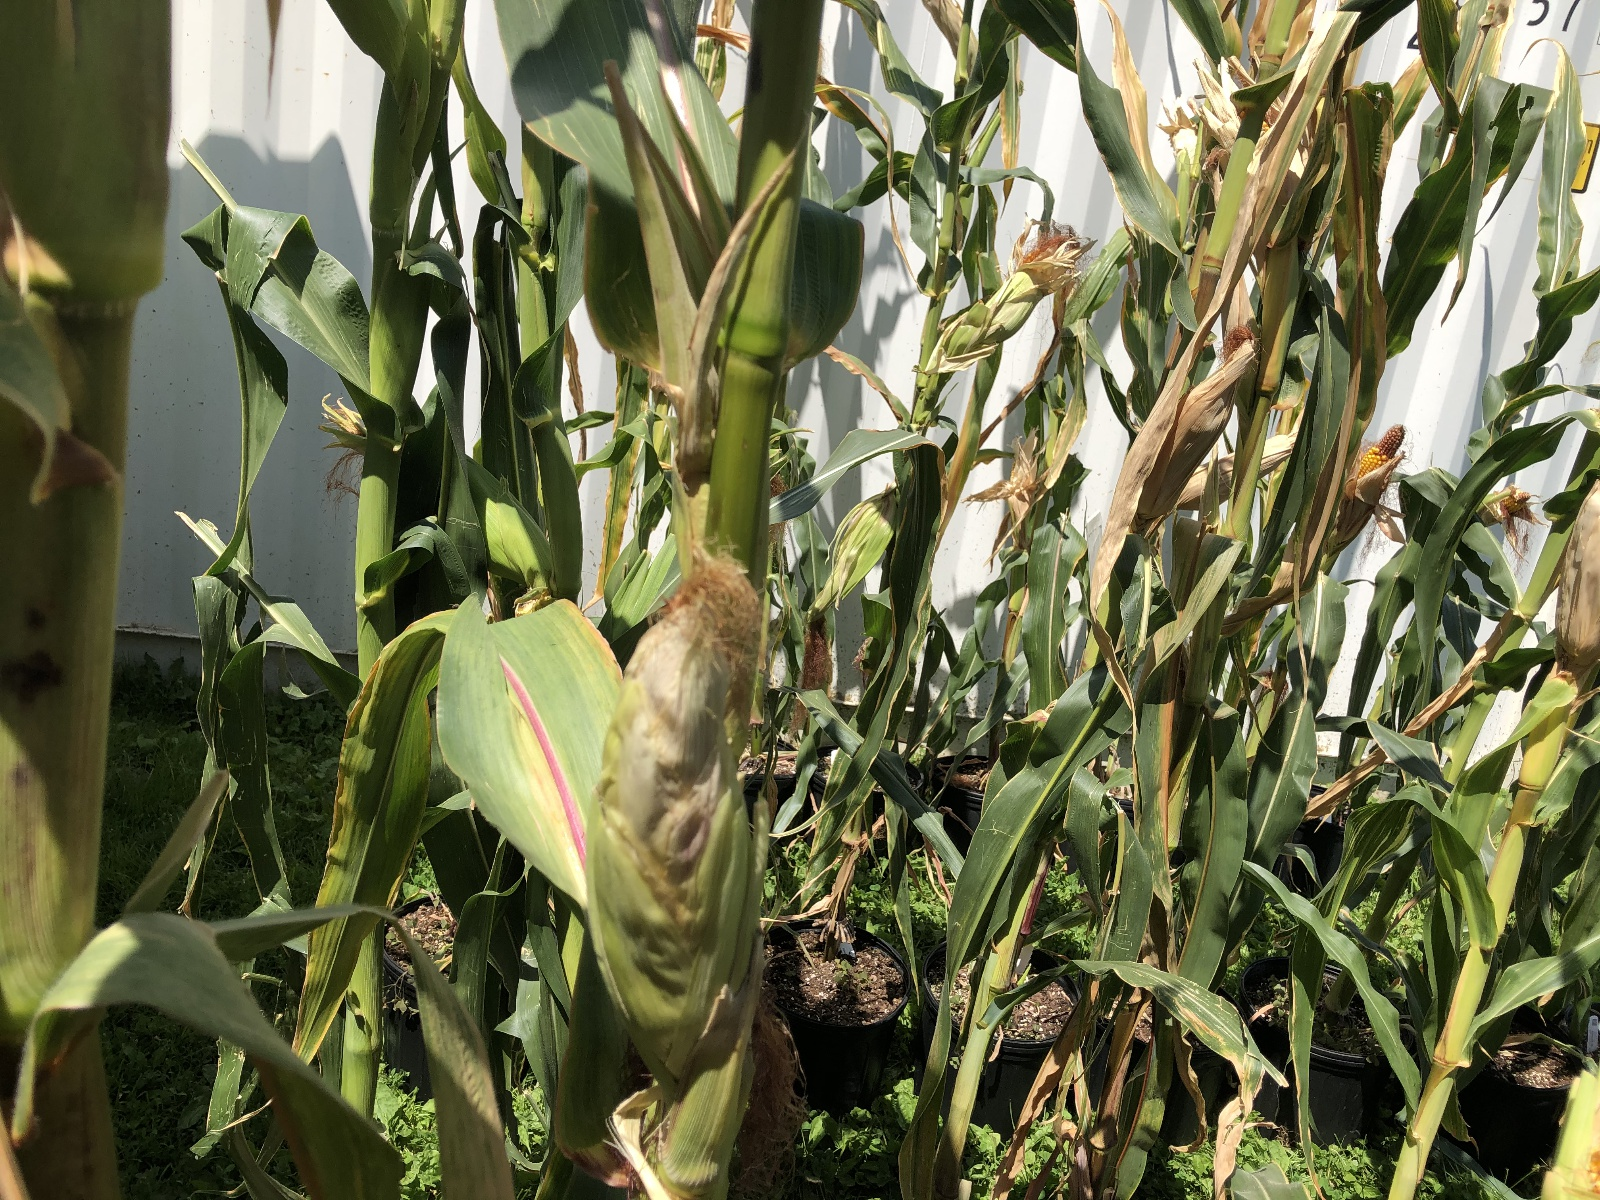ear: (582, 524, 772, 1073), (1133, 320, 1262, 513), (941, 214, 1082, 352), (1330, 413, 1417, 550), (1552, 458, 1600, 662)
